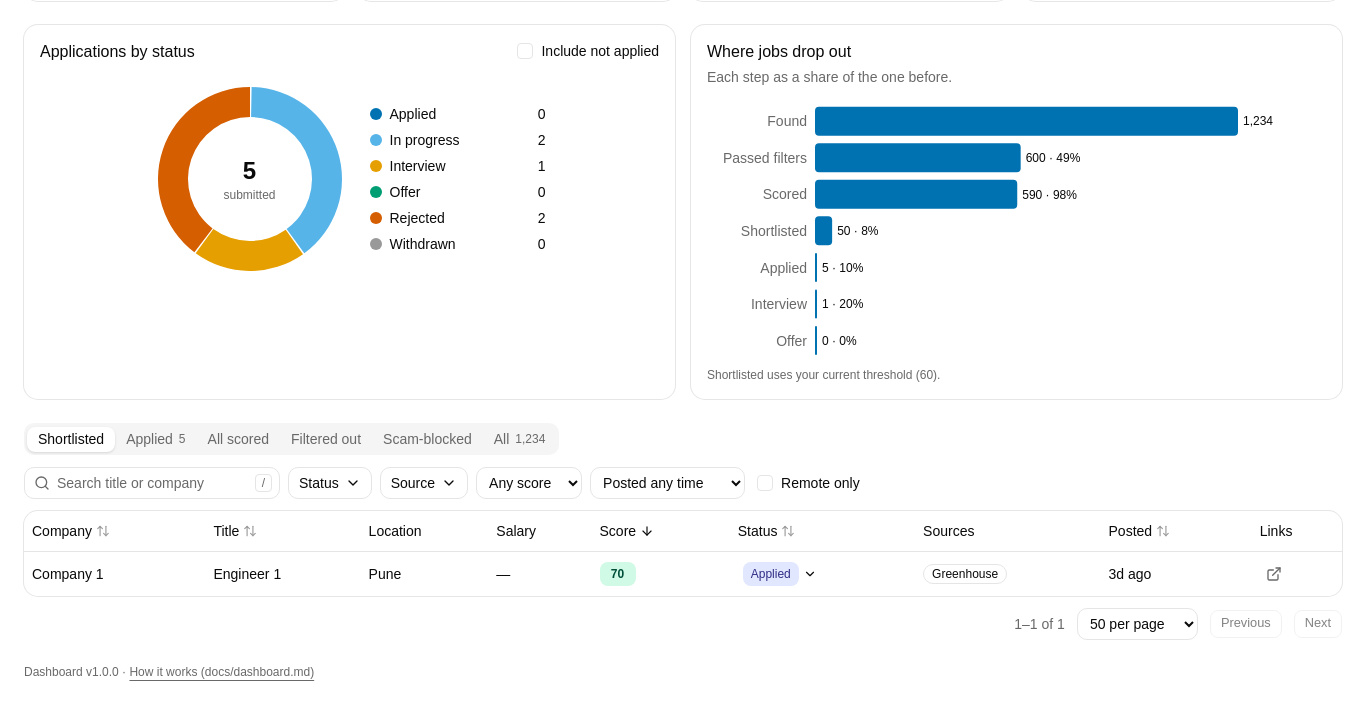
Undo after a move › says why, and reloads, when it is too late to undo
(page scrolled)
Click the button with aria-label "Status: Applied. Change status" at (780, 574), box [738,560,822,588]
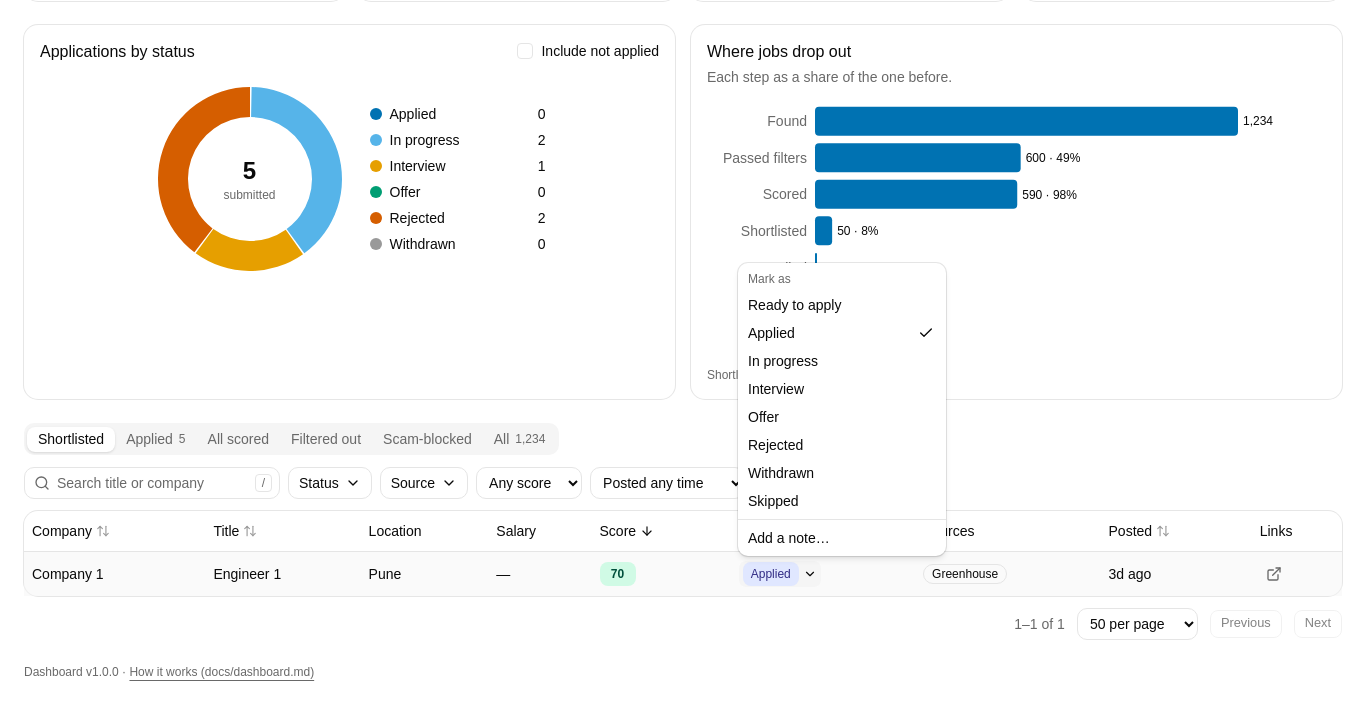
Click the menu item "Offer" at (763, 417), box [748,409,779,425]
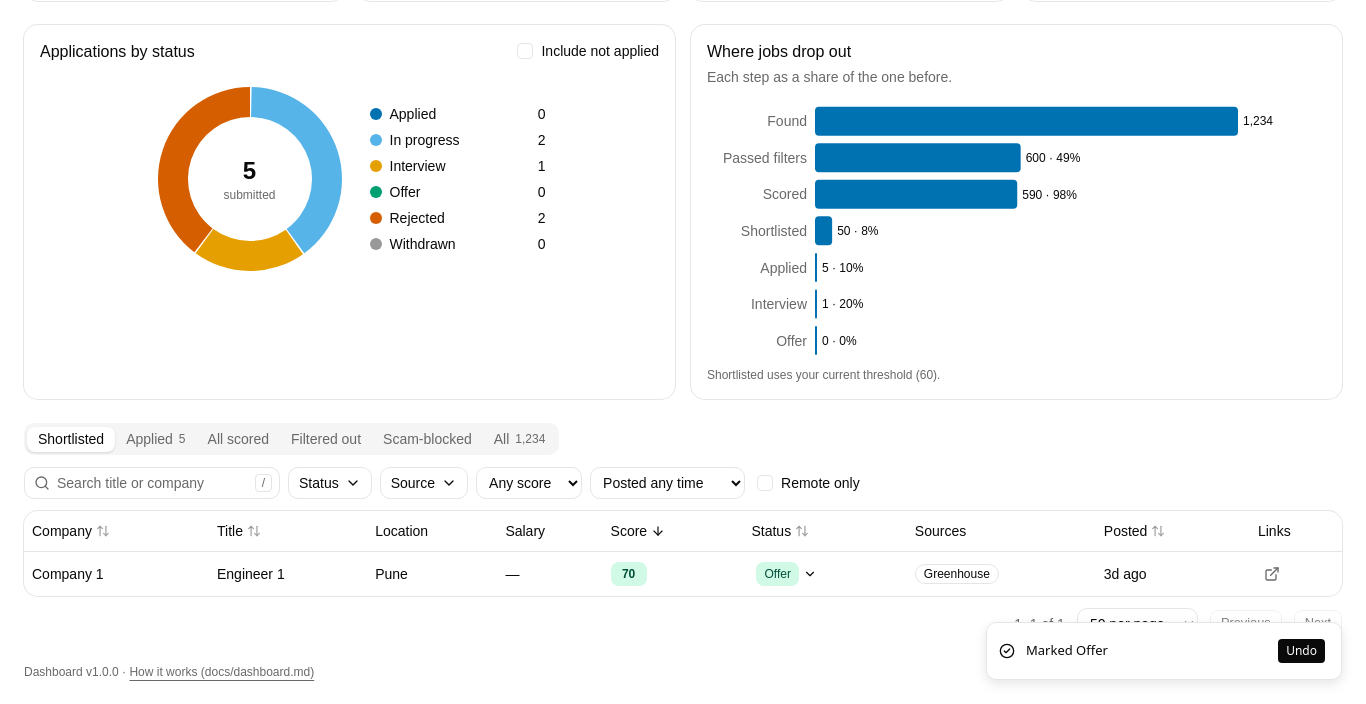
expect the text "Marked Offer" is shown: met, box [1026,641,1108,661]
Click the button "Undo" at (1302, 651), box [1278,639,1325,663]
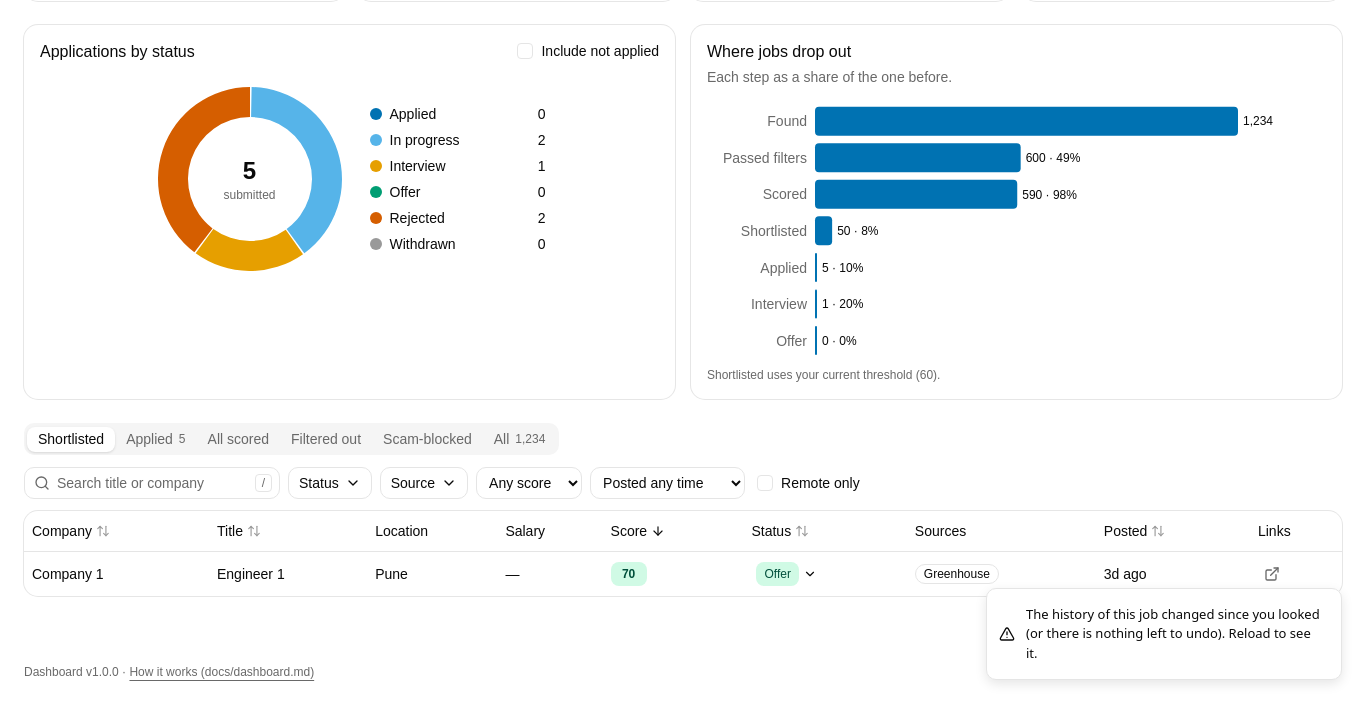
expect the text "history of this job changed" is shown: met, box [1026,604,1320,662]
